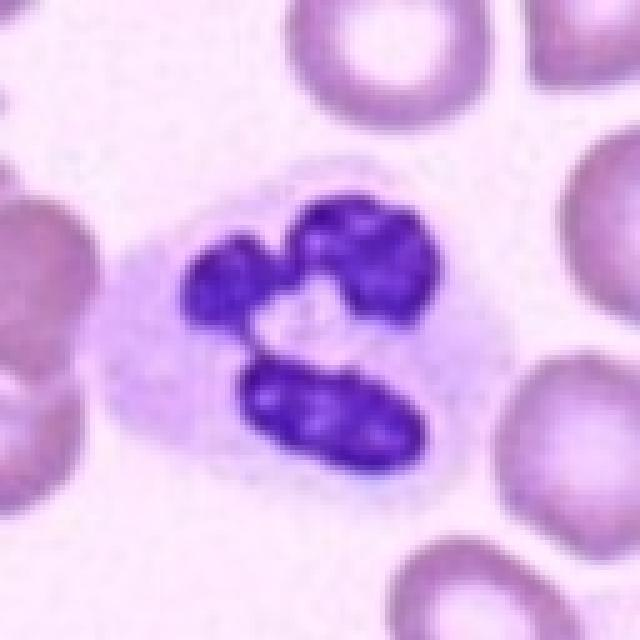neutro: (114, 147, 505, 507)
